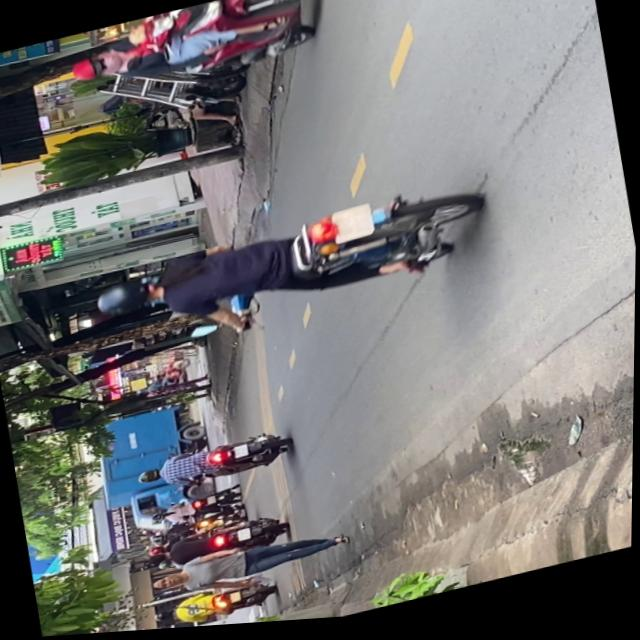helmet: (92, 272, 163, 321), (68, 50, 117, 83)
licenseplate: (85, 176, 493, 362), (61, 0, 335, 113)
nohelmet: (330, 206, 373, 247)
